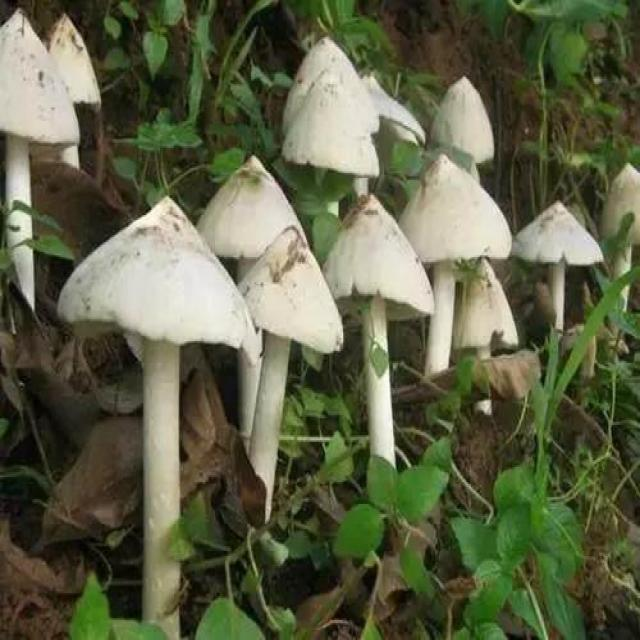Collybia albuminosa: (56, 191, 257, 613), (233, 227, 337, 527), (327, 190, 432, 466), (199, 158, 303, 433), (0, 6, 78, 304), (402, 152, 507, 370), (278, 35, 378, 202), (510, 194, 602, 333), (26, 15, 105, 167), (455, 252, 522, 416), (430, 72, 498, 192), (602, 161, 640, 332)
